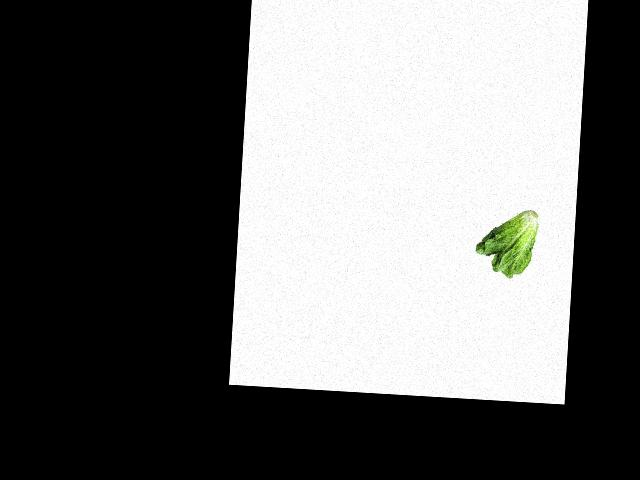lettuce: (470, 209, 542, 279)
